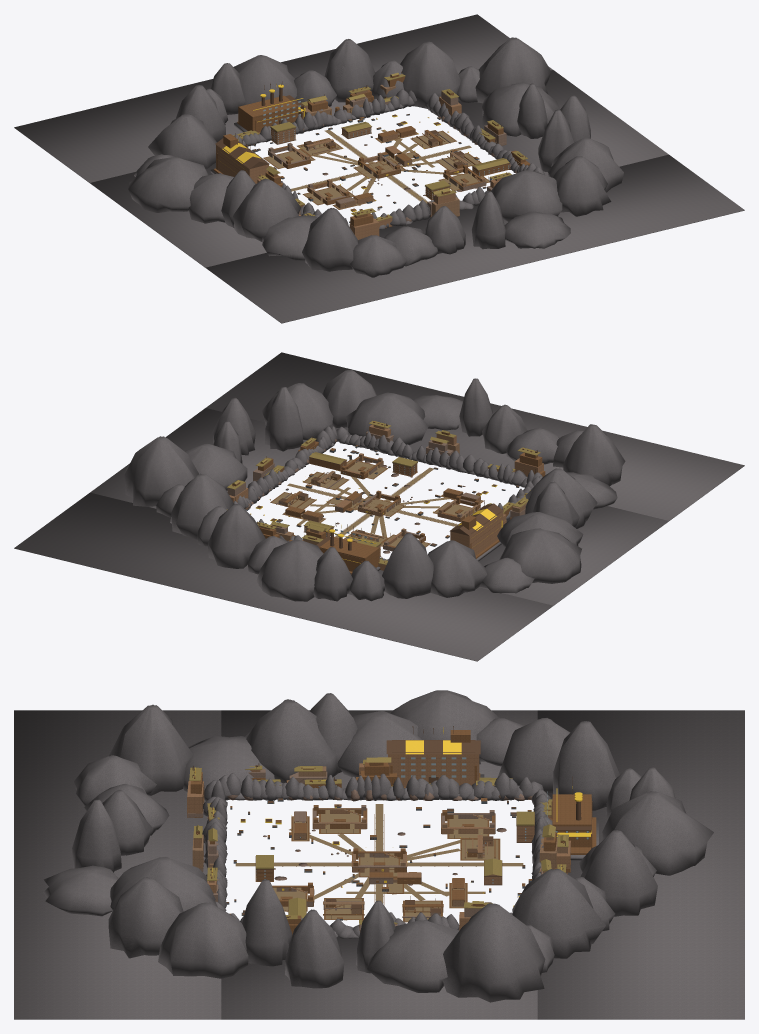
File: saisekiba-lod0.glb
3 views of the same model, one above another, from view 1: azimuth 30°, elevation 25°; view 2: azimuth 150°, elevation 25°; view 3: azimuth 270°, elevation 25° (orthographic). The views are drawn at different scales.
Visible parts, largest first — view 1: HB_saisekiba_LOD0_terrain, HB_saisekiba_LOD0_road, HB_saisekiba_LOD0_wall_alt, HB_saisekiba_LOD0_wall, HB_saisekiba_LOD0_roof, HB_saisekiba_LOD0_wall_weathered, HB_saisekiba_LOD0_LANDMARK_0_wall_alt, HB_saisekiba_LOD0_wall_cool, HB_saisekiba_LOD0_trim, HB_saisekiba_LOD0_wall_warm, HB_saisekiba_LOD0_LANDMARK_1_wall; view 2: HB_saisekiba_LOD0_terrain, HB_saisekiba_LOD0_road, HB_saisekiba_LOD0_wall_alt, HB_saisekiba_LOD0_roof, HB_saisekiba_LOD0_wall, HB_saisekiba_LOD0_wall_weathered, HB_saisekiba_LOD0_wall_cool, HB_saisekiba_LOD0_LANDMARK_0_wall_alt, HB_saisekiba_LOD0_trim, HB_saisekiba_LOD0_LANDMARK_1_wall, HB_saisekiba_LOD0_wall_warm; view 3: HB_saisekiba_LOD0_terrain, HB_saisekiba_LOD0_road, HB_saisekiba_LOD0_wall_alt, HB_saisekiba_LOD0_roof, HB_saisekiba_LOD0_wall, HB_saisekiba_LOD0_wall_cool, HB_saisekiba_LOD0_LANDMARK_1_wall, HB_saisekiba_LOD0_wall_warm, HB_saisekiba_LOD0_LANDMARK_0_wall_alt, HB_saisekiba_LOD0_wall_weathered, HB_saisekiba_LOD0_trim, HB_saisekiba_LOD0_LANDMARK_1_trim (+2 smaller).
Part boxes in pixels (<box>): HB_saisekiba_LOD0_terrain: <box>14,14,744,323</box>; HB_saisekiba_LOD0_road: <box>263,119,489,209</box>; HB_saisekiba_LOD0_wall_alt: <box>239,74,529,227</box>; HB_saisekiba_LOD0_wall: <box>242,90,501,239</box>; HB_saisekiba_LOD0_roof: <box>233,72,527,221</box>; HB_saisekiba_LOD0_wall_weathered: <box>273,76,525,226</box>; HB_saisekiba_LOD0_LANDMARK_0_wall_alt: <box>237,95,298,133</box>; HB_saisekiba_LOD0_wall_cool: <box>260,91,506,216</box>; HB_saisekiba_LOD0_trim: <box>243,71,525,221</box>; HB_saisekiba_LOD0_wall_warm: <box>273,84,479,215</box>; HB_saisekiba_LOD0_LANDMARK_1_wall: <box>216,145,268,183</box>; HB_saisekiba_LOD0_terrain: <box>14,352,744,661</box>; HB_saisekiba_LOD0_road: <box>270,460,483,546</box>; HB_saisekiba_LOD0_wall_alt: <box>232,421,534,570</box>; HB_saisekiba_LOD0_roof: <box>226,420,540,564</box>; HB_saisekiba_LOD0_wall: <box>229,424,543,570</box>; HB_saisekiba_LOD0_wall_weathered: <box>258,440,545,547</box>; HB_saisekiba_LOD0_wall_cool: <box>227,431,525,551</box>; HB_saisekiba_LOD0_LANDMARK_0_wall_alt: <box>319,537,379,574</box>; HB_saisekiba_LOD0_trim: <box>235,423,537,558</box>; HB_saisekiba_LOD0_LANDMARK_1_wall: <box>450,512,503,555</box>; HB_saisekiba_LOD0_wall_warm: <box>272,437,526,544</box>; HB_saisekiba_LOD0_terrain: <box>14,690,744,1019</box>; HB_saisekiba_LOD0_road: <box>235,804,523,921</box>; HB_saisekiba_LOD0_wall_alt: <box>187,762,570,934</box>; HB_saisekiba_LOD0_roof: <box>189,757,568,924</box>; HB_saisekiba_LOD0_wall: <box>187,763,570,930</box>; HB_saisekiba_LOD0_wall_cool: <box>187,765,543,932</box>; HB_saisekiba_LOD0_LANDMARK_1_wall: <box>388,754,479,787</box>; HB_saisekiba_LOD0_wall_warm: <box>192,766,567,913</box>; HB_saisekiba_LOD0_LANDMARK_0_wall_alt: <box>549,794,596,854</box>; HB_saisekiba_LOD0_wall_weathered: <box>190,772,570,930</box>; HB_saisekiba_LOD0_trim: <box>192,763,565,920</box>; HB_saisekiba_LOD0_LANDMARK_1_trim: <box>386,726,480,783</box>.
Size of the model in its own units: 740 by 86.88 by 740.
Materials: 13 (12 with a texture image).
